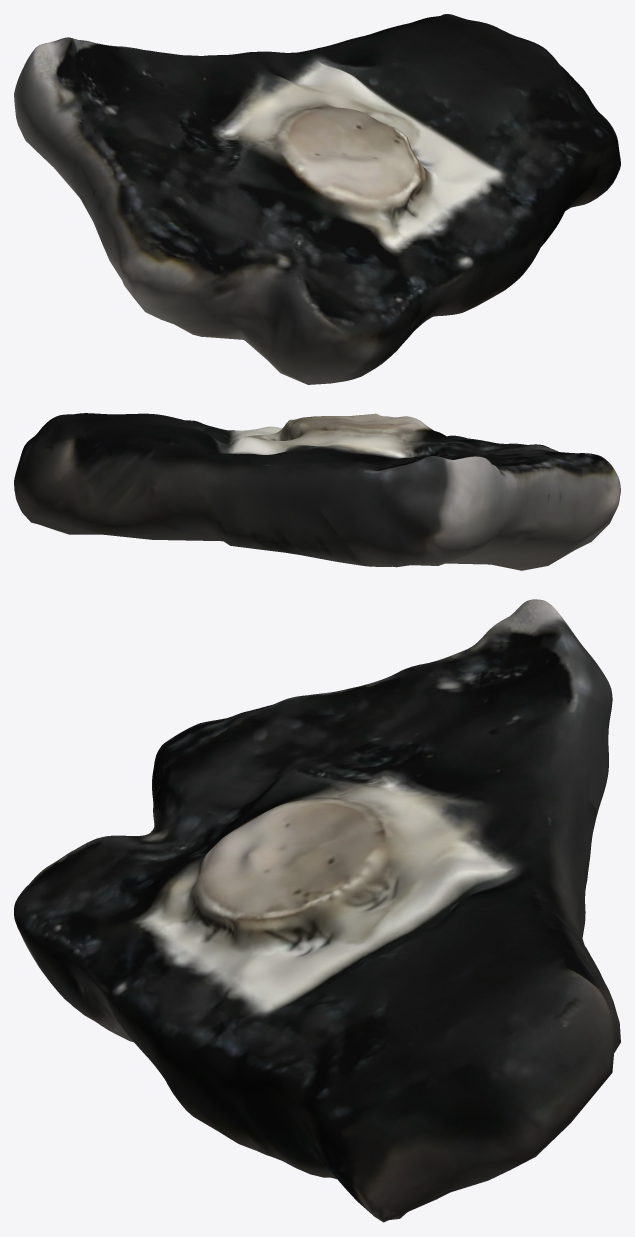
The picture shows the model from 3 angles, top to bottom: view 1: azimuth 30°, elevation 25°; view 2: azimuth 150°, elevation 25°; view 3: azimuth 270°, elevation 25°; orthographic projection. The views are drawn at different scales.
Size of the model in its own units: 0.5823 by 0.2575 by 0.4218.
1 material, 1 textured.
